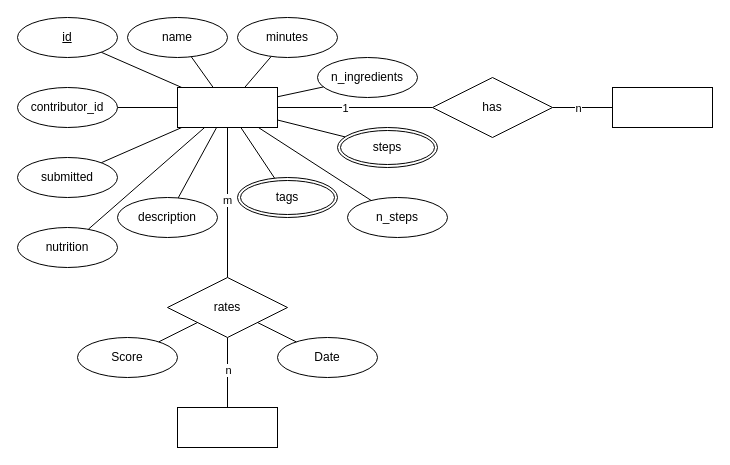
This 730x465 diagram has some shape labels left out. The centre of each missing label's shape, as x and y in pixels:
Ingredient: the point at 662,107
Recipe: the point at 227,107
User: the point at 227,427
